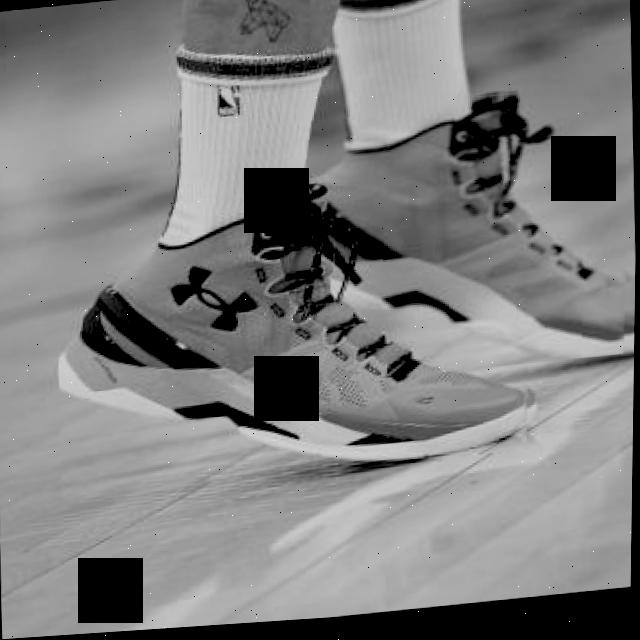shoe: (52, 167, 544, 498), (282, 85, 639, 392)
